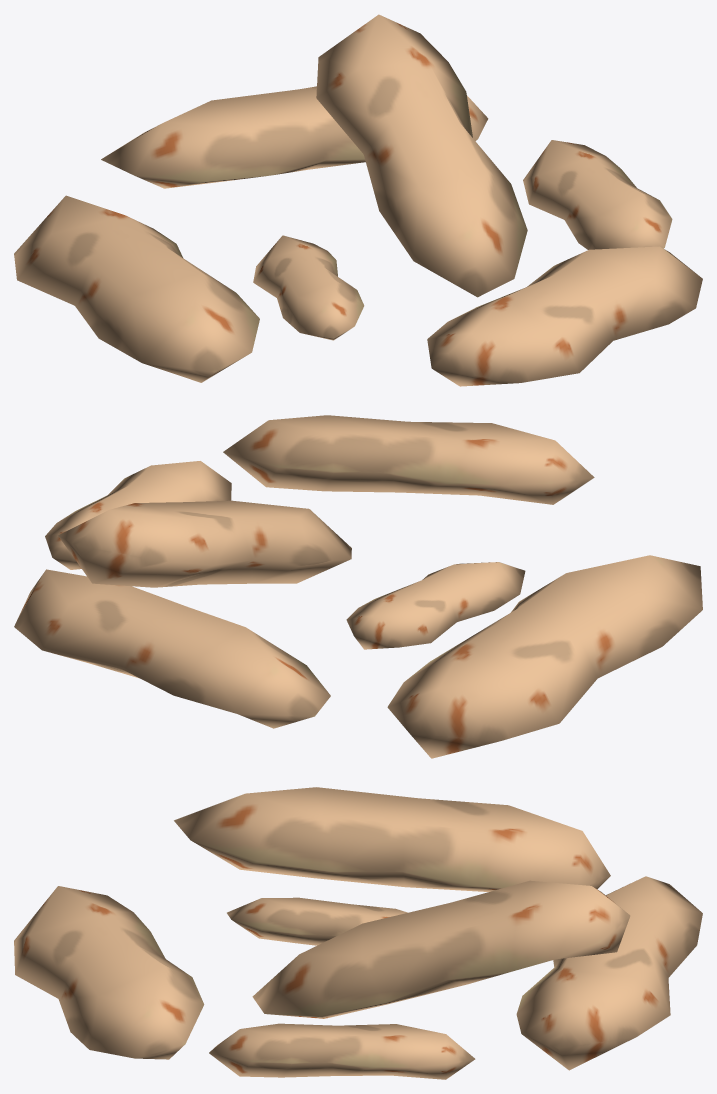
The model's file is NutsPine.fbx.
3 renders of one model, top to bottom at view 1: azimuth 30°, elevation 25°; view 2: azimuth 150°, elevation 25°; view 3: azimuth 270°, elevation 25°, orthographic. The views are drawn at different scales.
Parts seen in each view (by area): view 1: Peanuts; view 2: Peanuts; view 3: Peanuts.
Boxes of the visible parts, x1,y1,x2,y2 form: Peanuts: (14,14,702,386); Peanuts: (14,415,702,758); Peanuts: (14,787,702,1079).
Size of the model in its own units: 10.05 by 3.02 by 10.81.
